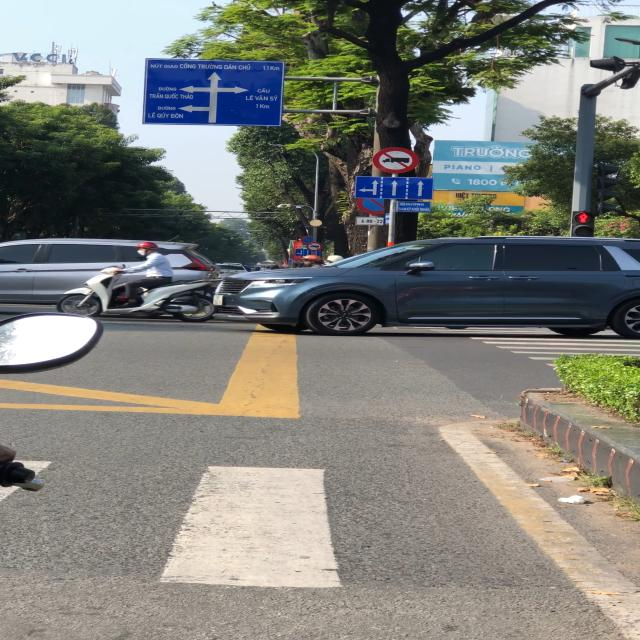Bien bao cam xe so-mi ro-mooc: (369, 146, 423, 177), (305, 240, 323, 252)
